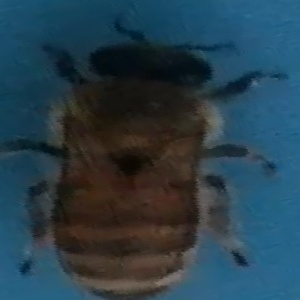bee: (25, 18, 285, 299)
